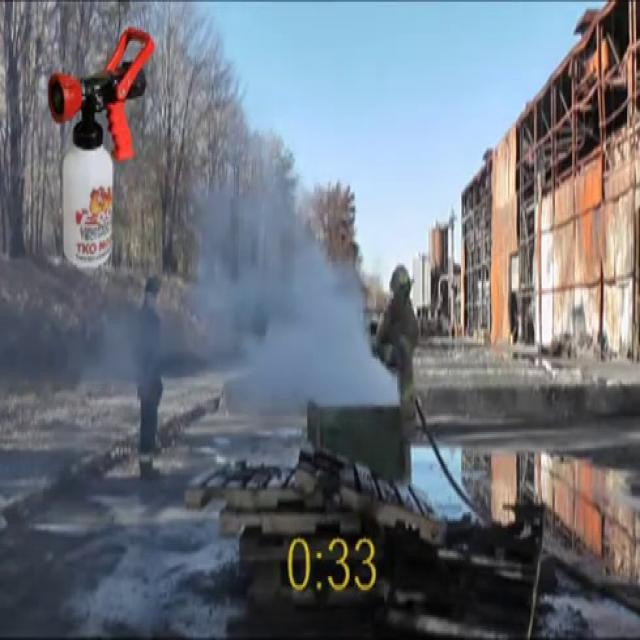Smoke: (122, 94, 395, 438)
